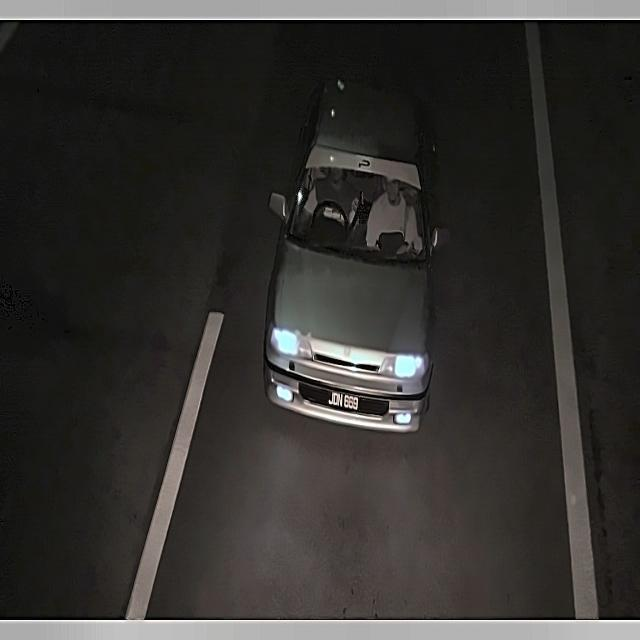car: (322, 384, 367, 418)
